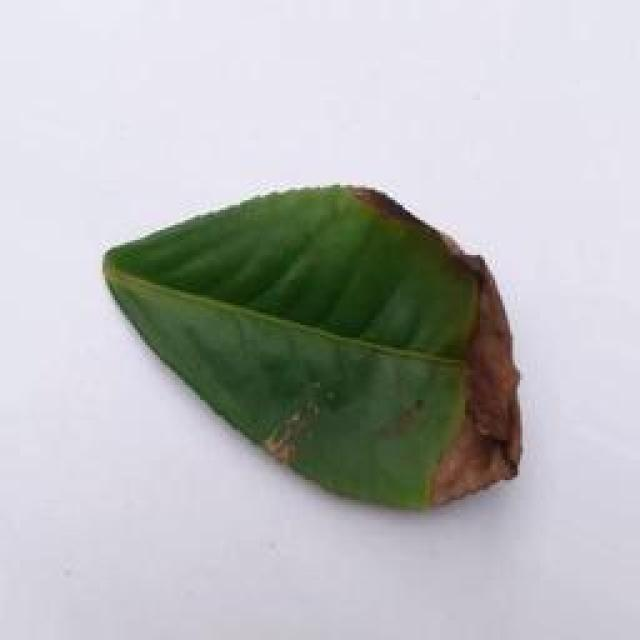Brown Blight: (84, 178, 526, 508)
